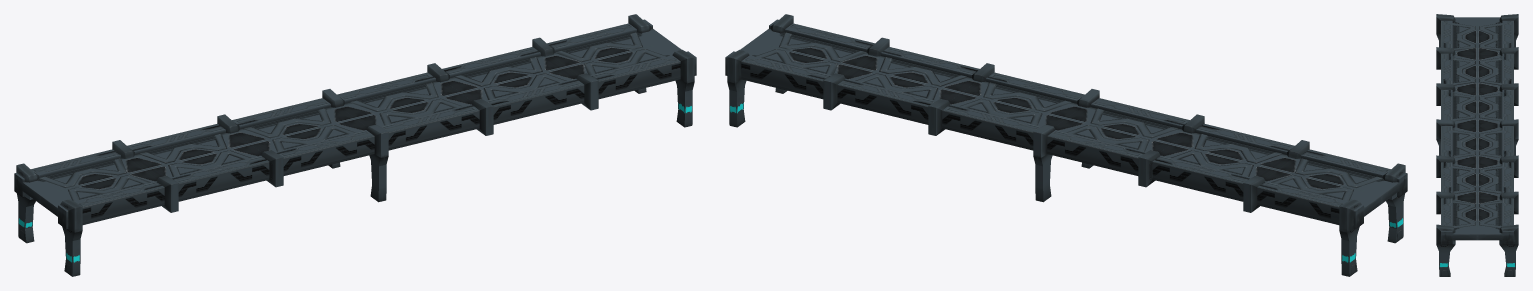
Rendered from wrc_bridge_mdl.FBX.
3 views of the same model, side by side, from view 1: azimuth 30°, elevation 25°; view 2: azimuth 150°, elevation 25°; view 3: azimuth 270°, elevation 25° (orthographic). The views are drawn at different scales.
Visible parts, largest first — view 1: wrc_; view 2: wrc_; view 3: wrc_.
Boxes of the visible parts, left/top/right/bottom form: wrc_: left=14, top=14, right=696, bottom=276; wrc_: left=725, top=14, right=1407, bottom=276; wrc_: left=1436, top=14, right=1518, bottom=276.
Bounding box in the file's own units: 2472 × 264 × 398.
